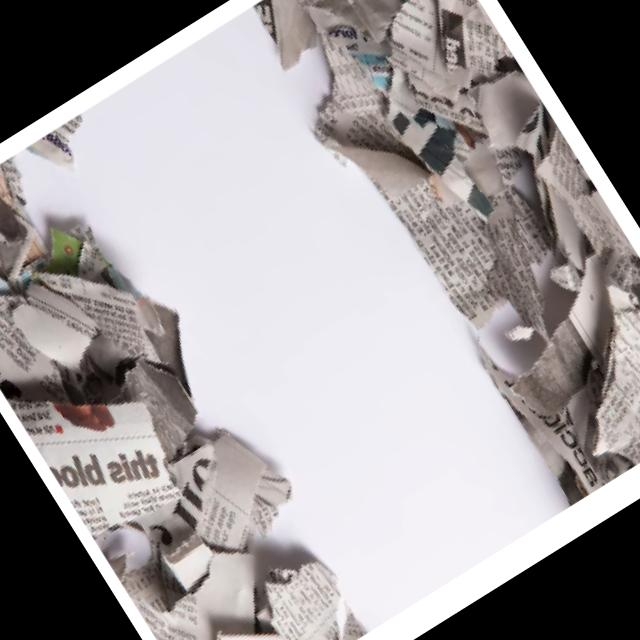Koran: (239, 0, 640, 519), (0, 116, 392, 640)
